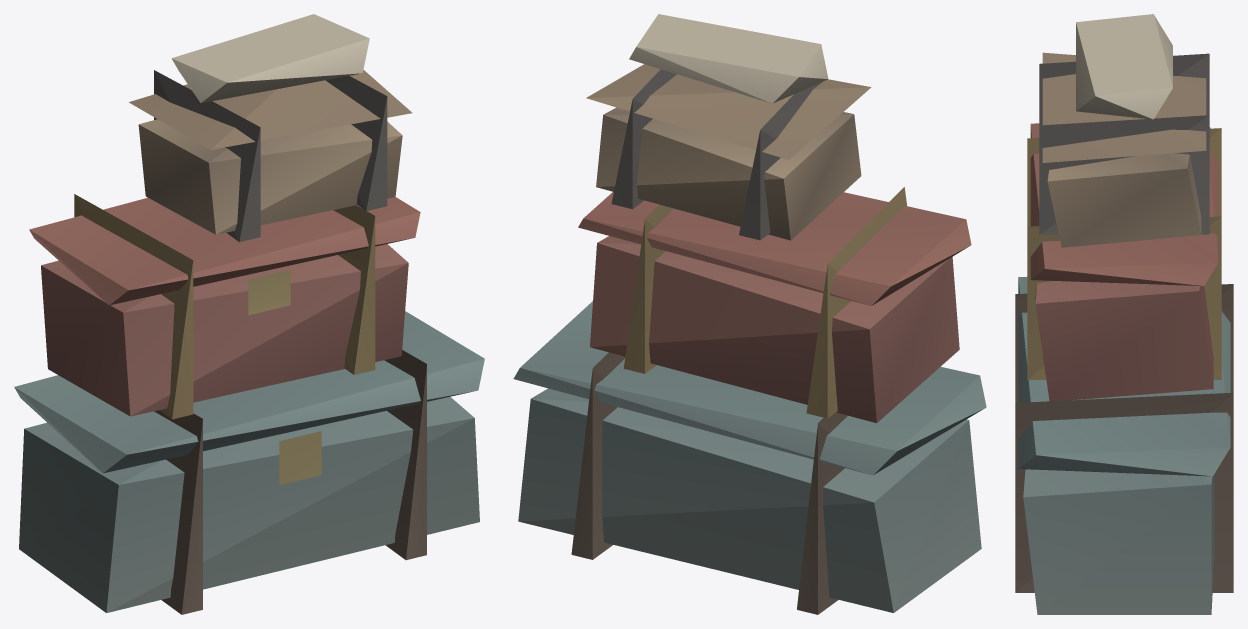
The model's file is chest.lod1.glb.
3 views of the same model, side by side, from view 1: azimuth 30°, elevation 25°; view 2: azimuth 150°, elevation 25°; view 3: azimuth 270°, elevation 25° (orthographic).
Size of the model in its own units: 1.08 by 1.33 by 0.54.
